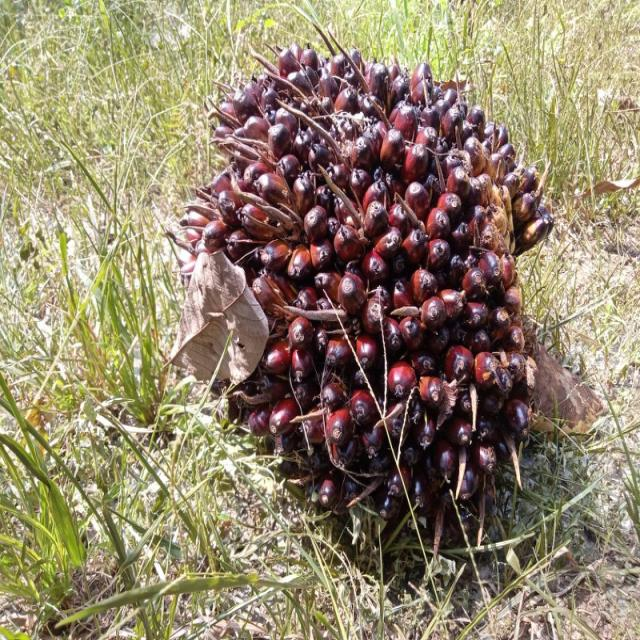fraksi 00: (196, 31, 552, 533)
